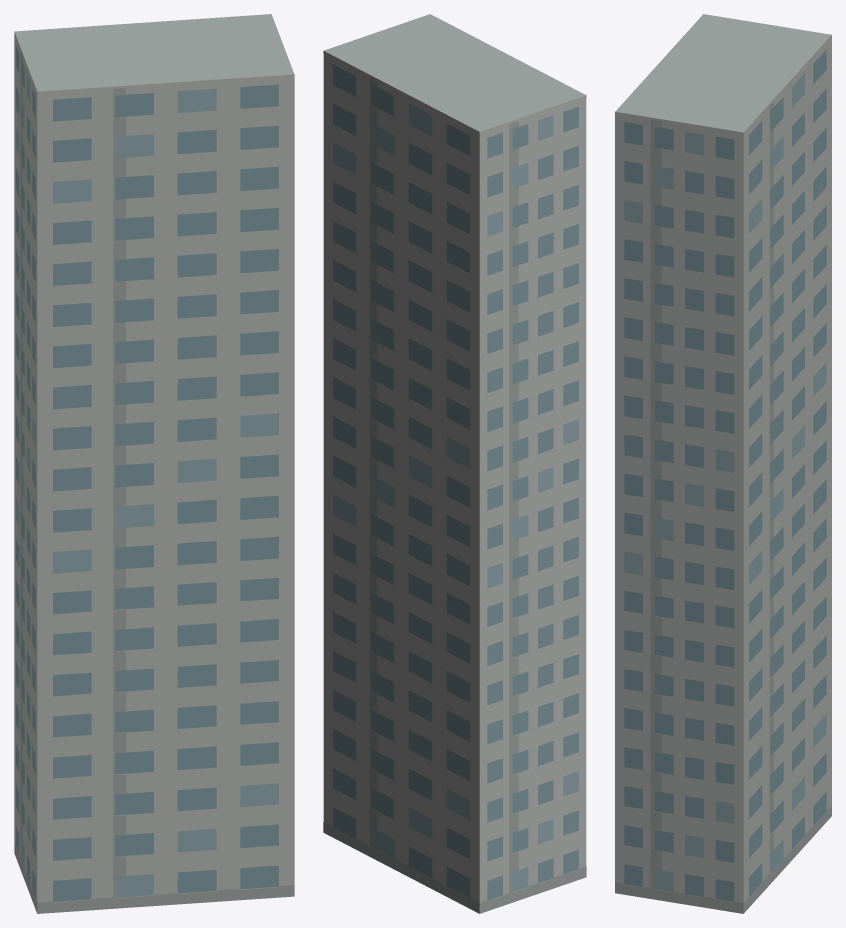
Rendered from residential-08385ae9-b19e-481e-9dff-4100dfb3068e.glb.
3 renders of one model, left to right at view 1: azimuth 30°, elevation 25°; view 2: azimuth 150°, elevation 25°; view 3: azimuth 270°, elevation 25°, orthographic. The views are drawn at different scales.
Visible parts, largest first — view 1: residential-08385ae9-b19e-481e-9dff-4100dfb3068e.tmp; view 2: residential-08385ae9-b19e-481e-9dff-4100dfb3068e.tmp; view 3: residential-08385ae9-b19e-481e-9dff-4100dfb3068e.tmp.
Part boxes in pixels (bbox=[...]): residential-08385ae9-b19e-481e-9dff-4100dfb3068e.tmp: bbox=[14, 14, 294, 913]; residential-08385ae9-b19e-481e-9dff-4100dfb3068e.tmp: bbox=[323, 14, 586, 913]; residential-08385ae9-b19e-481e-9dff-4100dfb3068e.tmp: bbox=[615, 14, 831, 913].
Size of the model in its own units: 27.64 by 85 by 21.37.
